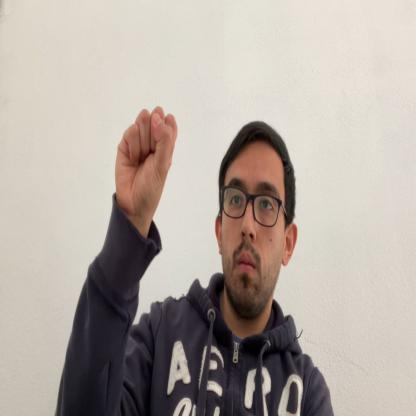S: (114, 106, 177, 218)
